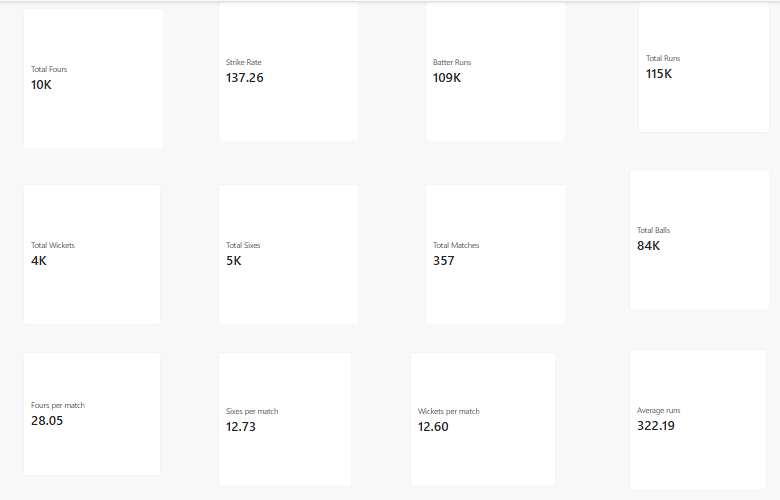

The dashboard page shown, as its layout file describes it:
{"tool":"powerbi","page":{"name":"Dax Measures","canvas":[1920,1080],"ordinal":0},"visuals":[{"type":"cardVisual","fields":{"Data":["PSL_ball_by_ball_merged.Total Runs"]},"box":[1384,0,280,280],"z":0},{"type":"cardVisual","fields":{"Data":["PSL_ball_by_ball_merged.Batter Runs"]},"box":[931.2,0,300,300],"z":1000},{"type":"cardVisual","fields":{"Data":["PSL_ball_by_ball_merged.Strike Rate"]},"box":[491.1,0,300,300],"z":2000},{"type":"cardVisual","fields":{"Data":["PSL_ball_by_ball_merged.Total Balls"]},"box":[1364.9,357.2,300,300],"z":3000},{"type":"cardVisual","fields":{"Data":["PSL_ball_by_ball_merged.Total Matches"]},"box":[931.2,389.1,300,300],"z":4000},{"type":"cardVisual","fields":{"Data":["PSL_ball_by_ball_merged.Total Sixes"]},"box":[491.1,389.1,300,300],"z":5000},{"type":"cardVisual","fields":{"Data":["PSL_ball_by_ball_merged.Total Fours"]},"box":[76.5,14.9,300,300],"z":6000},{"type":"cardVisual","fields":{"Data":["PSL_ball_by_ball_merged.Total Wickets"]},"box":[76.5,389.1,293.4,299.8],"z":7000},{"type":"cardVisual","fields":{"Data":["PSL_ball_by_ball_merged.Average runs"]},"box":[1364.9,739.8,293,300],"z":8000},{"type":"cardVisual","fields":{"Data":["PSL_ball_by_ball_merged.Wickets per match"]},"box":[899.3,746.2,310.4,287],"z":9000},{"type":"cardVisual","fields":{"Data":["PSL_ball_by_ball_merged.Sixes per match"]},"box":[491.1,746.2,284.9,287],"z":10000},{"type":"cardVisual","fields":{"Data":["PSL_ball_by_ball_merged.Fours per match"]},"box":[76.5,746.2,293.4,263.6],"z":11000}]}

Visuals, with their boxes on the page's 1920x1080 design canvas (x1, y1, x2, y2). These are canvas units, not pixel positions in the 780x500 screenshot, which may show the page scaled, cropped or inside an application window:
cardVisual - PSL_ball_by_ball_merged.Total Runs: detection(1384, 0, 1664, 280)
cardVisual - PSL_ball_by_ball_merged.Batter Runs: detection(931, 0, 1231, 300)
cardVisual - PSL_ball_by_ball_merged.Strike Rate: detection(491, 0, 791, 300)
cardVisual - PSL_ball_by_ball_merged.Total Balls: detection(1365, 357, 1665, 657)
cardVisual - PSL_ball_by_ball_merged.Total Matches: detection(931, 389, 1231, 689)
cardVisual - PSL_ball_by_ball_merged.Total Sixes: detection(491, 389, 791, 689)
cardVisual - PSL_ball_by_ball_merged.Total Fours: detection(76, 15, 376, 315)
cardVisual - PSL_ball_by_ball_merged.Total Wickets: detection(76, 389, 370, 689)
cardVisual - PSL_ball_by_ball_merged.Average runs: detection(1365, 740, 1658, 1040)
cardVisual - PSL_ball_by_ball_merged.Wickets per match: detection(899, 746, 1210, 1033)
cardVisual - PSL_ball_by_ball_merged.Sixes per match: detection(491, 746, 776, 1033)
cardVisual - PSL_ball_by_ball_merged.Fours per match: detection(76, 746, 370, 1010)
